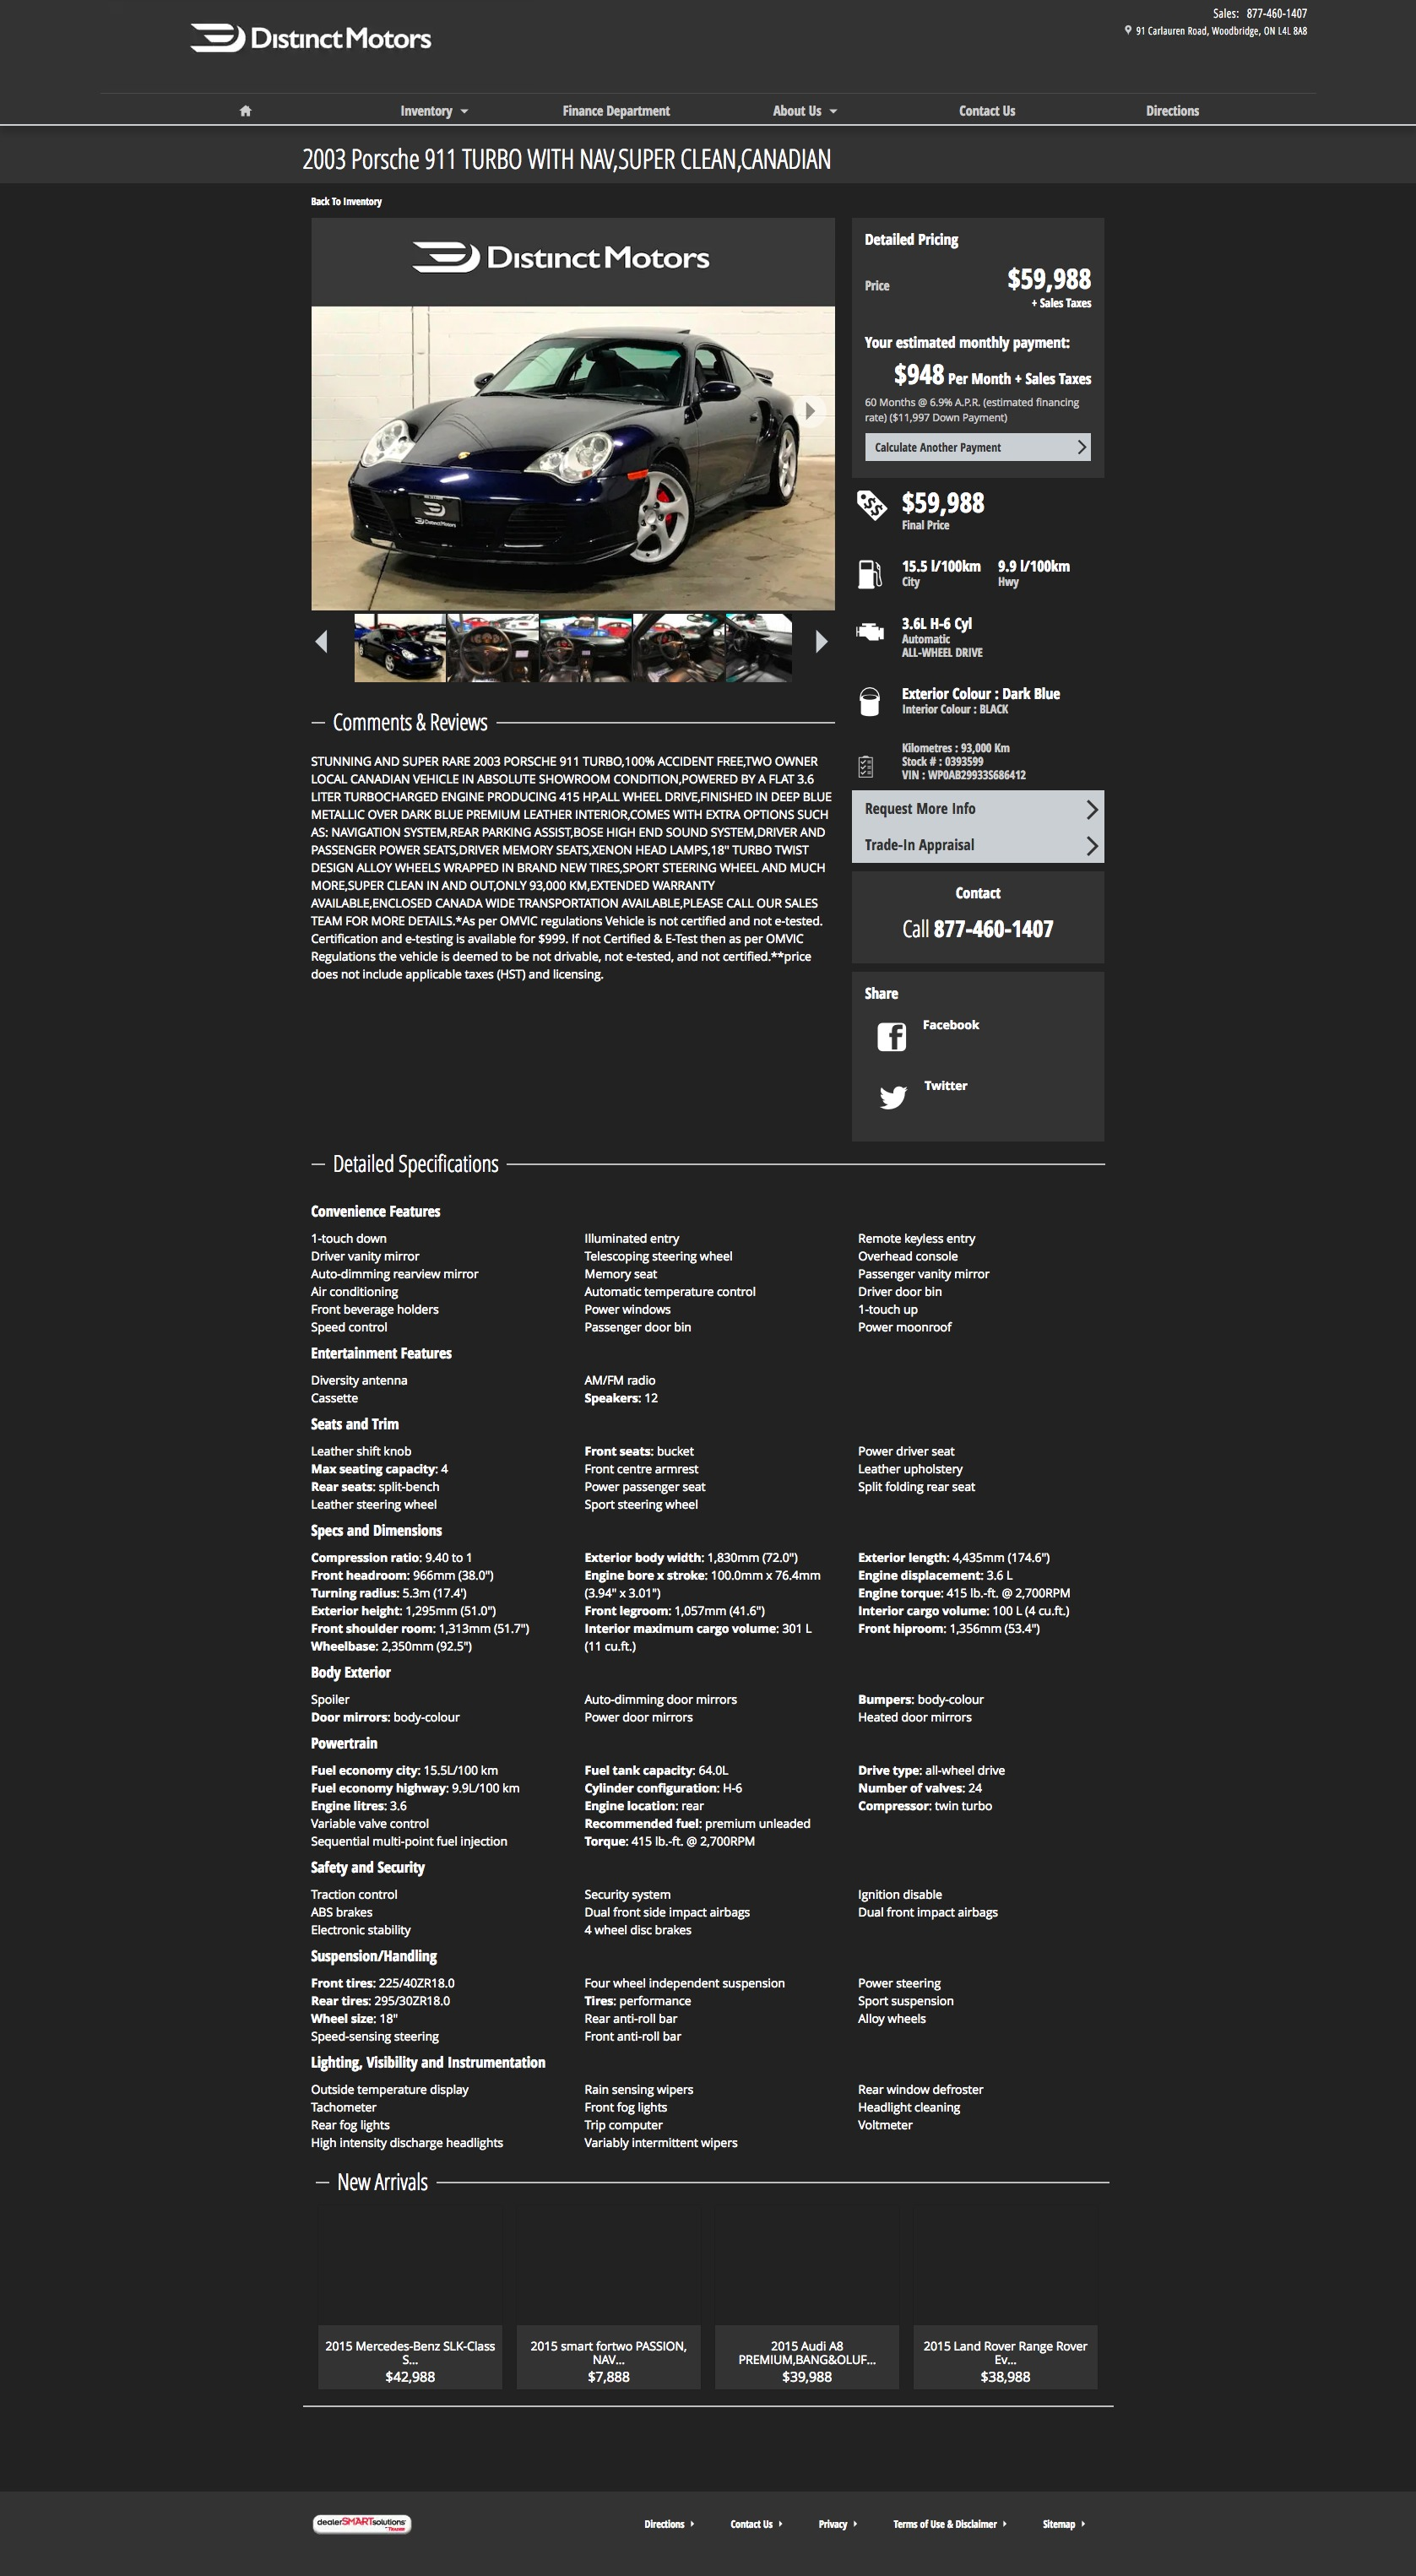car: (814, 631, 828, 655)
